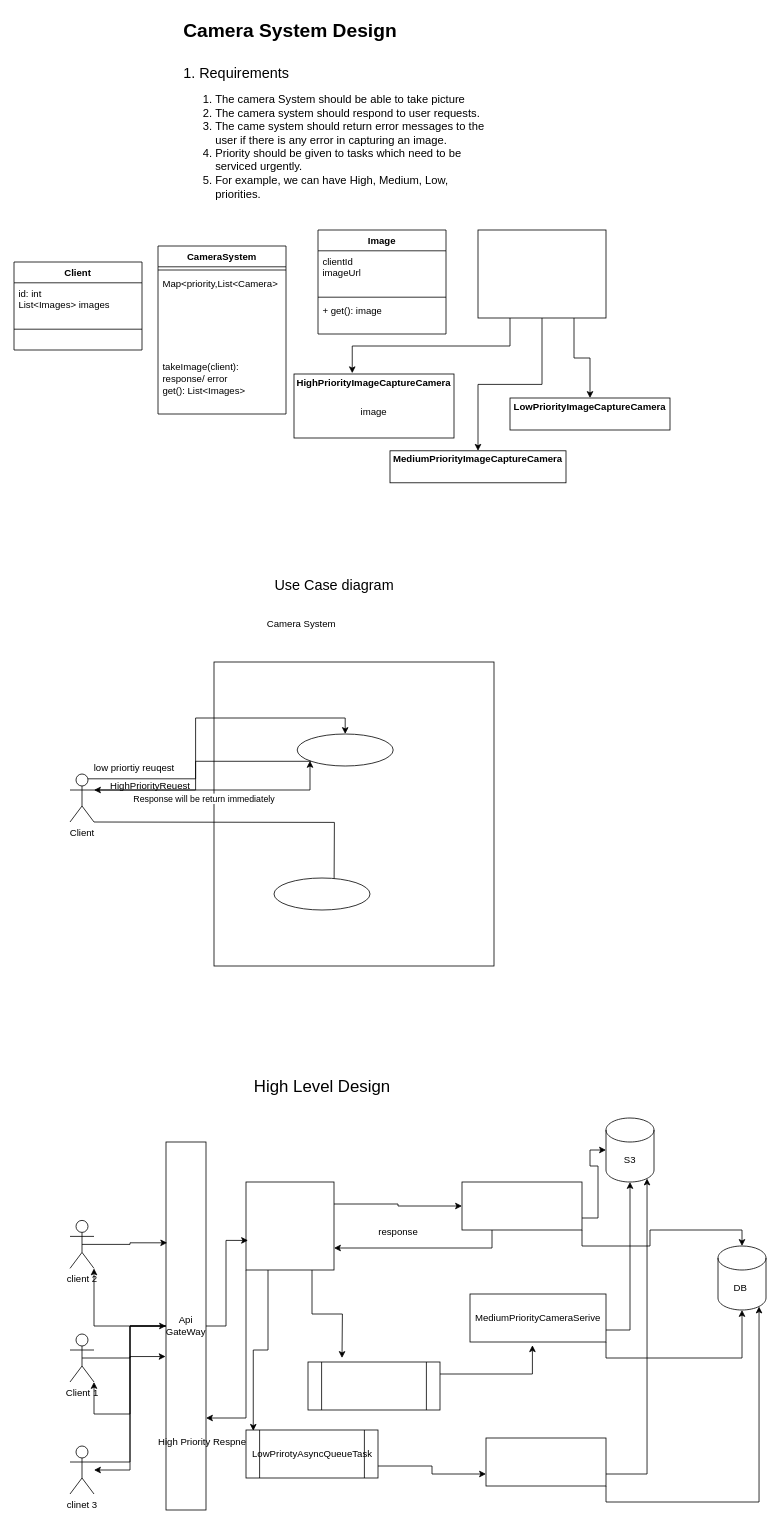
This 780x1530 diagram has some shape labels left out. The shapes that lost their labels are listed below. From the top down, each one's centre as x and y in pixels, then its label:
At (x=541, y=273): "public interface Camera{ takeImage(): Response }".
At (x=344, y=749): "takeImage".
At (x=321, y=893): "getImages".
At (x=289, y=1225): "TaskDeciderService".
At (x=521, y=1205): "HighPriorityCameraSerive".
At (x=373, y=1385): "MediumPrirotyAsyncQueueTask".
At (x=545, y=1461): "LowPriorityCameraSerive".
